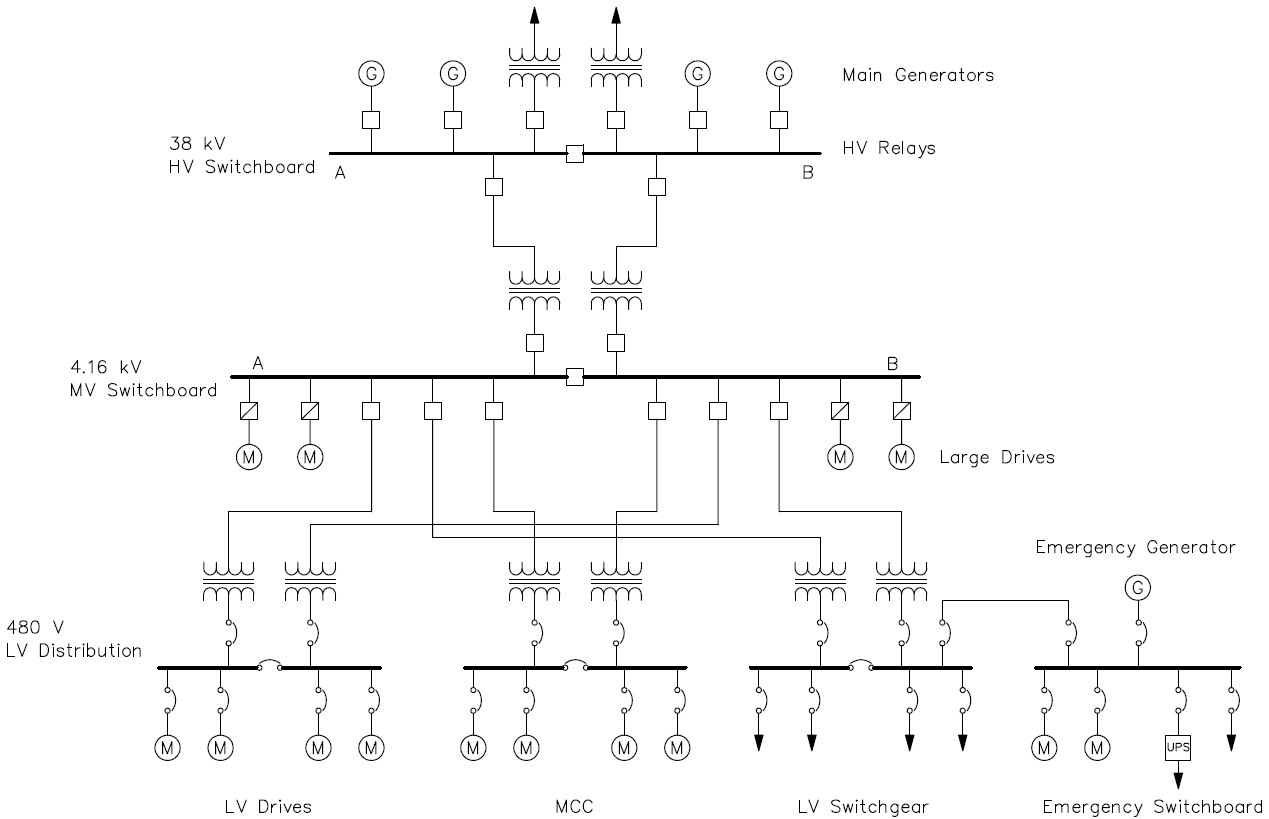circuit_breaker: (149, 675, 186, 720), (1123, 612, 1160, 655), (664, 675, 697, 723), (358, 675, 391, 720), (1083, 678, 1120, 718), (205, 674, 237, 720), (1057, 613, 1090, 654), (513, 679, 544, 721), (1027, 677, 1058, 719), (306, 679, 335, 723), (746, 678, 777, 719), (248, 651, 293, 679), (604, 613, 638, 650), (795, 680, 826, 720), (462, 678, 490, 721), (948, 678, 978, 718), (520, 613, 551, 651), (558, 651, 595, 682), (1163, 679, 1192, 718), (887, 610, 915, 650), (933, 611, 959, 654), (1220, 677, 1247, 718), (843, 650, 881, 679), (212, 613, 244, 647), (298, 611, 325, 648), (898, 679, 924, 717), (614, 680, 638, 720), (808, 614, 832, 653)
transformer: (495, 262, 573, 318), (494, 551, 570, 605), (582, 262, 652, 320), (497, 39, 571, 93), (778, 552, 852, 605), (582, 38, 652, 93), (580, 554, 654, 606), (866, 552, 937, 605), (193, 552, 260, 605), (273, 561, 346, 604)
